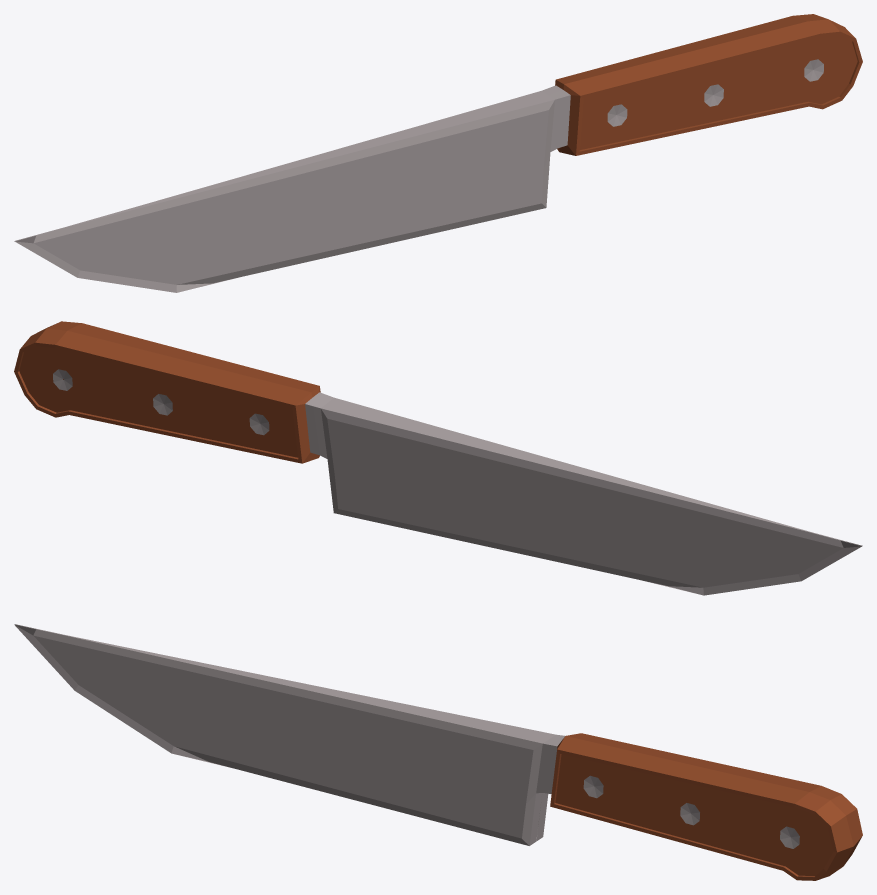
Rendered from Knife.fbx.
3 renders of one model, top to bottom at view 1: azimuth 30°, elevation 25°; view 2: azimuth 150°, elevation 25°; view 3: azimuth 330°, elevation 25°, orthographic.
Visible parts, largest first — view 1: Cube; view 2: Cube; view 3: Cube.
Boxes of the visible parts, x1,y1,x2,y2 form: Cube: [14, 14, 862, 292]; Cube: [14, 321, 862, 595]; Cube: [14, 624, 862, 880].
Bounding box in the file's own units: 509 × 66.01 × 29.27.
